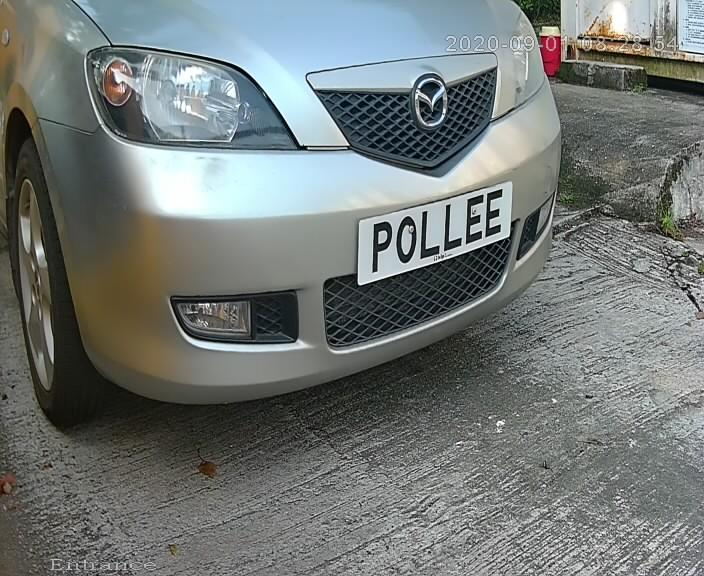License Plate: (356, 175, 513, 291)
